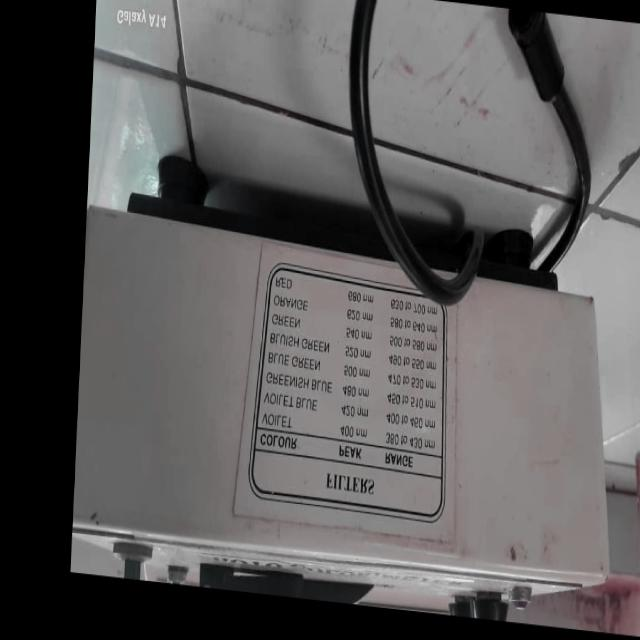Photocolorimeter: (101, 218, 618, 631)
